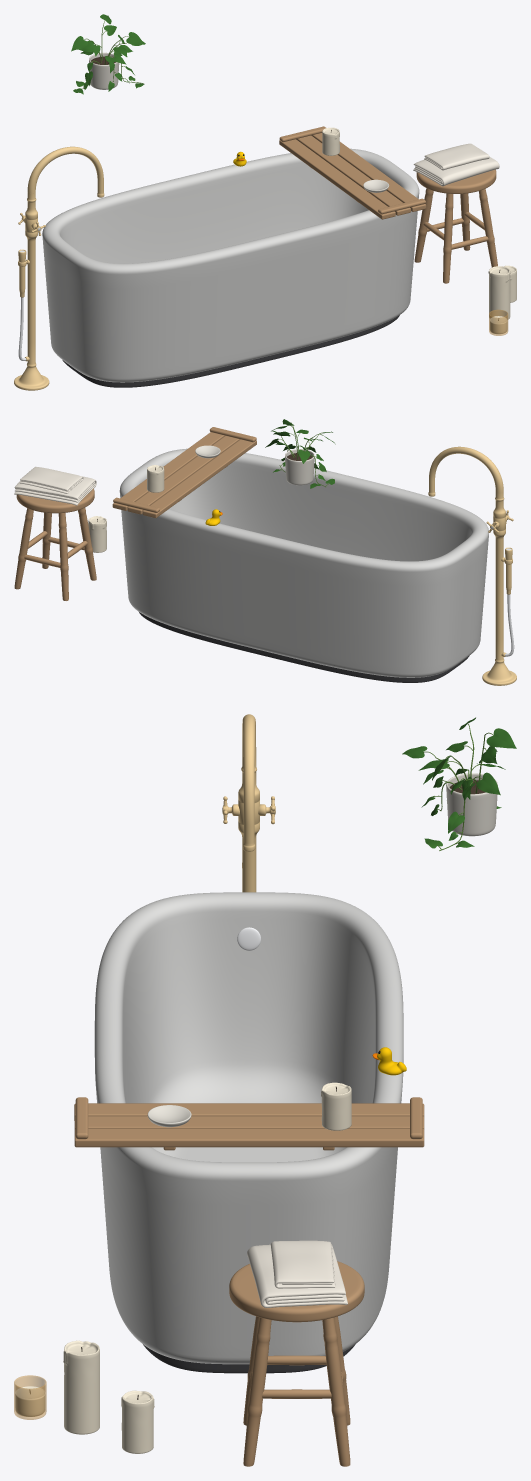
Rendered from props.glb.
The picture shows the model from 3 angles, top to bottom: view 1: azimuth 30°, elevation 25°; view 2: azimuth 150°, elevation 25°; view 3: azimuth 270°, elevation 25°; orthographic projection. The views are drawn at different scales.
Parts seen in each view (by area): view 1: Tub, Tray, Tap, Stool, Plant, Towel, CandleFloorA, CandleFloorC, CandleTray; view 2: Tub, Tray, Tap, Stool, Towel, Plant, CandleFloorB, CandleTray; view 3: Tub, Tray, Stool, Towel, Plant, Tap, CandleFloorA, CandleFloorB, CandleTray, CandleFloorC.
Part boxes in pixels (box(x1,y1,x2,y2)): Tub: box(42, 148, 419, 387); Tray: box(279, 126, 426, 219); Tap: box(14, 146, 104, 390); Stool: box(414, 169, 497, 283); Plant: box(71, 14, 145, 94); Towel: box(413, 143, 499, 186); CandleFloorA: box(488, 266, 510, 319); CandleFloorC: box(489, 309, 508, 335); CandleTray: box(322, 127, 339, 155); Tub: box(119, 448, 488, 682); Tray: box(112, 427, 256, 518); Tap: box(428, 446, 516, 685); Stool: box(14, 488, 96, 600); Towel: box(14, 466, 96, 505); Plant: box(265, 419, 335, 488); CandleFloorB: box(88, 516, 106, 552); CandleTray: box(147, 465, 164, 492); Tub: box(94, 892, 403, 1373); Tray: box(74, 1097, 424, 1150); Stool: box(229, 1261, 364, 1466); Towel: box(247, 1240, 347, 1307); Plant: box(402, 717, 516, 850); Tap: box(222, 714, 275, 892); CandleFloorA: box(63, 1340, 99, 1434); CandleFloorB: box(121, 1390, 154, 1453); CandleTray: box(321, 1082, 351, 1130); CandleFloorC: box(14, 1375, 46, 1419).
Bounding box in the file's own units: 2.41 × 1.3 × 1.26.
